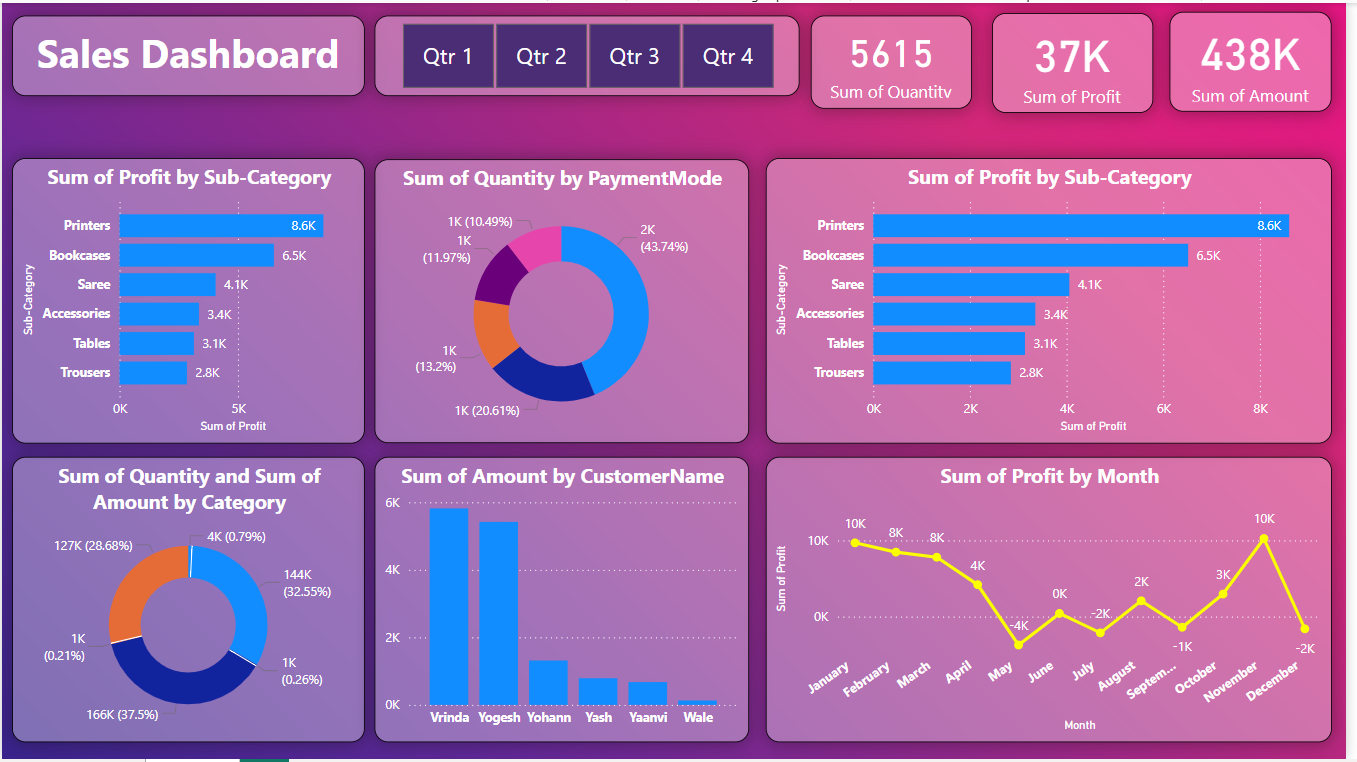

The dashboard page shown, as its layout file describes it:
{"tool":"powerbi","page":{"name":"Page 1","canvas":[1280,720],"ordinal":0},"visuals":[{"type":"textbox","box":[9.4,12.1,336.3,76.7],"z":0},{"type":"lineChart","fields":{"Category":["Orders.Order Date.Variation.Date Hierarchy.Month"],"Y":["Sum(Details.Profit)"]},"box":[727.7,431.8,539.4,271.7],"z":1000},{"type":"barChart","fields":{"Y":["Sum(Details.Profit)"],"Category":["Details.Sub-Category"]},"box":[727.7,148,539.4,271.7],"z":2000},{"type":"donutChart","fields":{"Y":["Sum(Details.Quantity)","Sum(Details.Amount)"],"Category":["Details.Category"]},"box":[9.4,431.8,336.3,271.7],"z":3000},{"type":"donutChart","fields":{"Y":["Sum(Details.Quantity)"],"Category":["Details.PaymentMode"]},"box":[355.1,149.3,356.5,270.4],"z":4000},{"type":"card","fields":{"Values":["Sum(Details.Amount)"]},"box":[1112.4,8.1,154.7,95.5],"z":5000},{"type":"card","fields":{"Values":["Sum(Details.Profit)"]},"box":[942.9,9.4,153.3,95.5],"z":6000},{"type":"card","fields":{"Values":["Sum(Details.Quantity)"]},"box":[770.7,12.1,153.3,88.8],"z":7000},{"type":"barChart","fields":{"Y":["Sum(Details.Profit)"],"Category":["Details.Sub-Category"]},"box":[9.4,148,336.3,271.7],"z":8000},{"type":"lineStackedColumnComboChart","fields":{"Category":["Orders.CustomerName"],"Y":["Sum(Details.Amount)"]},"box":[355.1,431.8,356.5,271.7],"z":9000},{"type":"slicer","fields":{"Values":["Orders.Order Date.Variation.Date Hierarchy.Quarter"]},"box":[355.1,12.1,404.9,76.7],"z":10000}]}

Visuals, with their boxes in screenshot pixels (x1, y1, x2, y2), scaled from the page's 1280x720 canvas onto the 1357x762 screenshot:
textbox: l=10, t=13, r=366, b=94
lineChart - Orders.Order Date.Variation.Date Hierarchy.Month x Sum(Details.Profit): l=771, t=457, r=1343, b=745
barChart - Sum(Details.Profit) x Details.Sub-Category: l=771, t=157, r=1343, b=444
donutChart - Sum(Details.Quantity) x Sum(Details.Amount): l=10, t=457, r=366, b=745
donutChart - Sum(Details.Quantity) x Details.PaymentMode: l=376, t=158, r=754, b=444
card - Sum(Details.Amount): l=1179, t=9, r=1343, b=110
card - Sum(Details.Profit): l=1000, t=10, r=1162, b=111
card - Sum(Details.Quantity): l=817, t=13, r=980, b=107
barChart - Sum(Details.Profit) x Details.Sub-Category: l=10, t=157, r=366, b=444
lineStackedColumnComboChart - Orders.CustomerName x Sum(Details.Amount): l=376, t=457, r=754, b=745
slicer - Orders.Order Date.Variation.Date Hierarchy.Quarter: l=376, t=13, r=806, b=94
